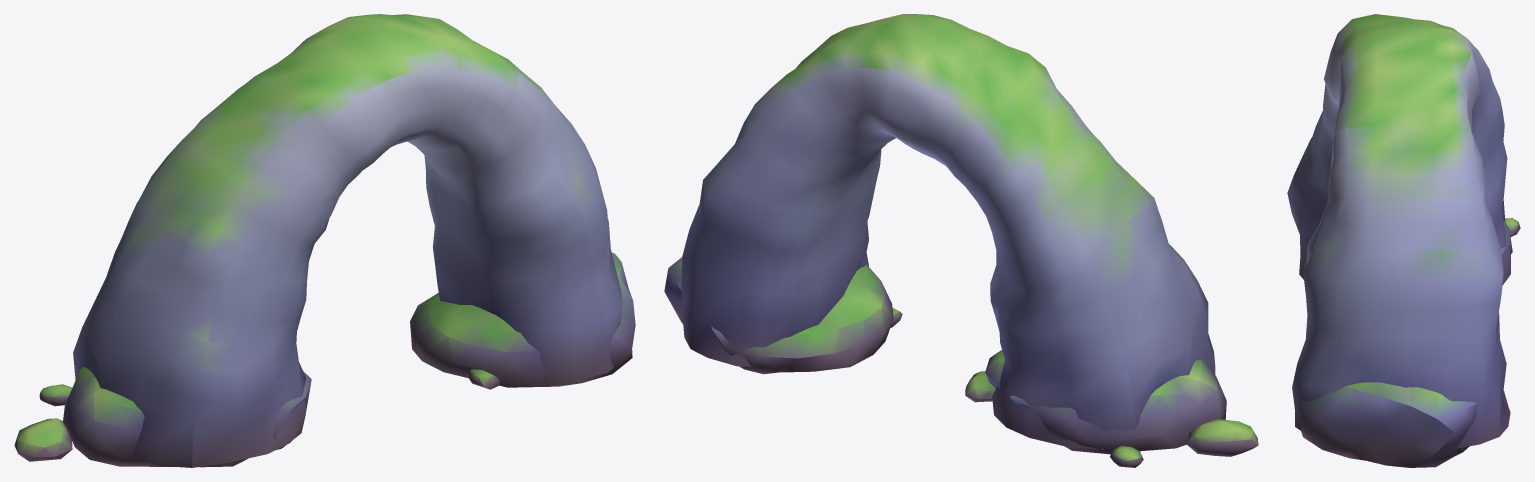
Rendered from verdant_arch_natural_a.glb.
The picture shows the model from 3 angles, left to right: view 1: azimuth 30°, elevation 25°; view 2: azimuth 150°, elevation 25°; view 3: azimuth 270°, elevation 25°; orthographic projection. The views are drawn at different scales.
Parts seen in each view (by area): view 1: verdant_arch_natural_a; view 2: verdant_arch_natural_a; view 3: verdant_arch_natural_a.
Part boxes in pixels (left/top/right/bottom): verdant_arch_natural_a: left=14, top=14, right=635, bottom=467; verdant_arch_natural_a: left=664, top=14, right=1258, bottom=467; verdant_arch_natural_a: left=1287, top=14, right=1520, bottom=467.
Size of the model in its own units: 16.25 by 9.23 by 5.86.
